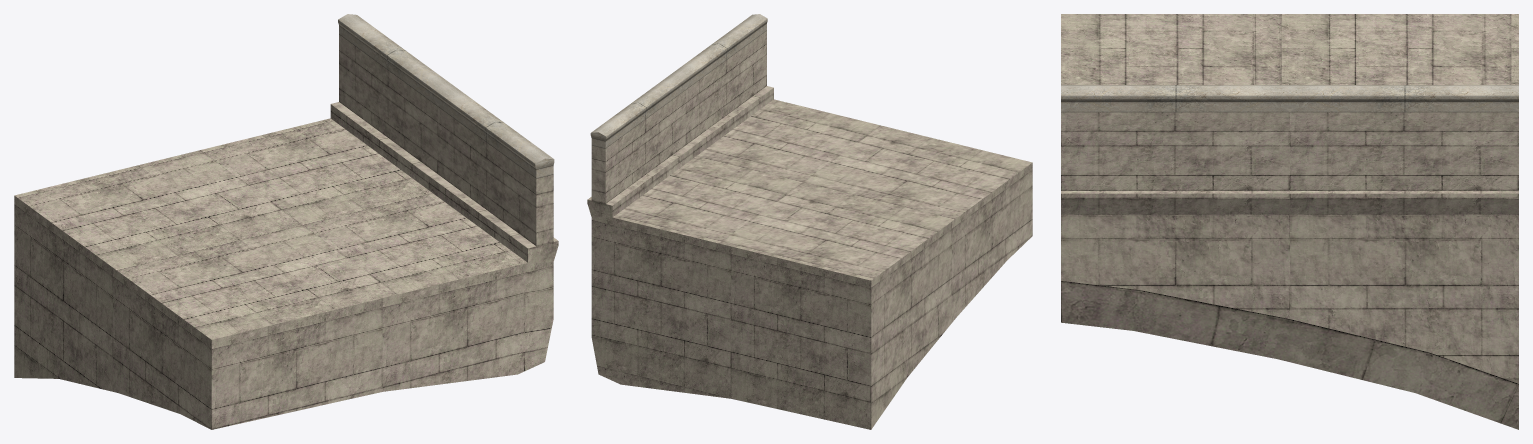
The model's file is BracingMarbleRight.dae.
3 views of the same model, side by side, from view 1: azimuth 30°, elevation 25°; view 2: azimuth 150°, elevation 25°; view 3: azimuth 270°, elevation 25° (orthographic). The views are drawn at different scales.
Visible parts, largest first — view 1: BracingMarbleRight; view 2: BracingMarbleRight; view 3: BracingMarbleRight.
Boxes of the visible parts, left/top/right/bottom form: BracingMarbleRight: left=14, top=14, right=558, bottom=429; BracingMarbleRight: left=587, top=14, right=1032, bottom=429; BracingMarbleRight: left=1061, top=14, right=1518, bottom=429.
Bounding box in the file's own units: 4.06 × 3.38 × 4.
Materials: 2 (2 with a texture image).
